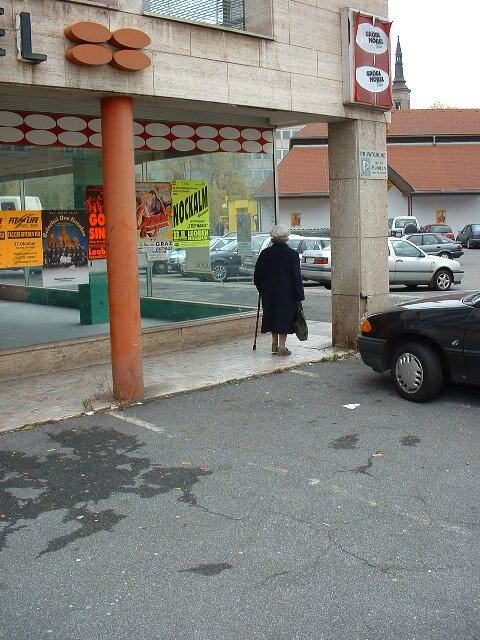person: (243, 218, 322, 359)
